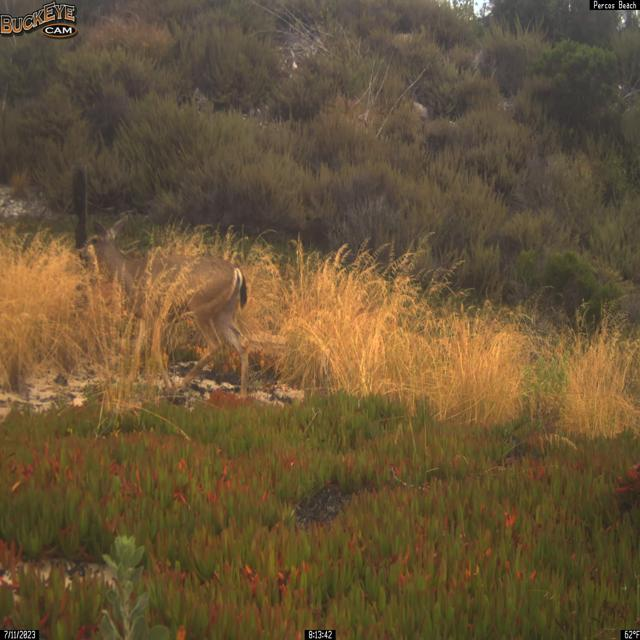deer: (79, 213, 250, 401)
